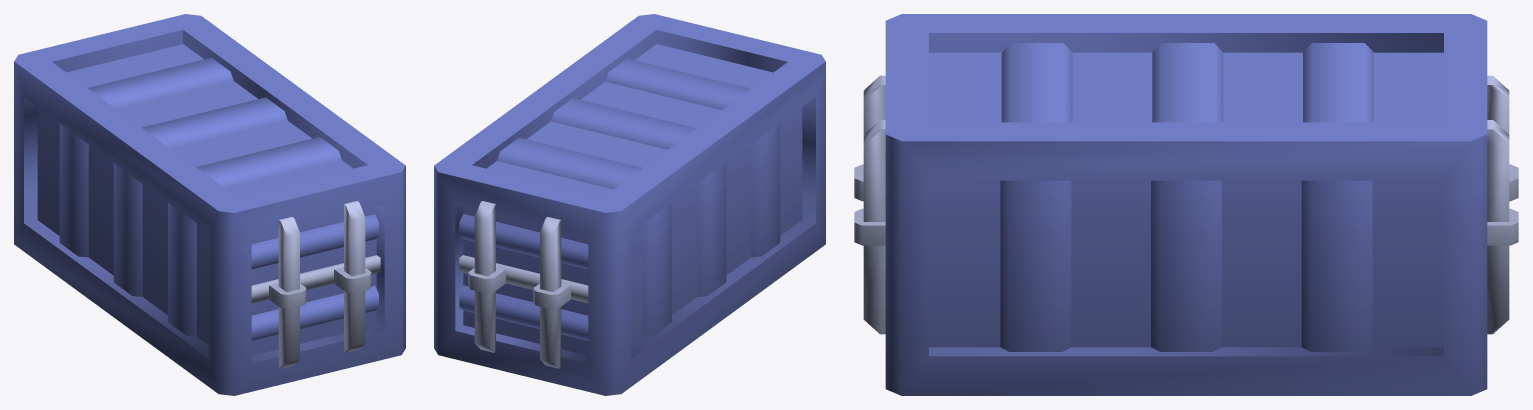
File: k-city-kit-industrial-shipping-container-b.glb
The picture shows the model from 3 angles, left to right: view 1: azimuth 30°, elevation 25°; view 2: azimuth 150°, elevation 25°; view 3: azimuth 270°, elevation 25°; orthographic projection. The views are drawn at different scales.
Parts seen in each view (by area): view 1: shipping-container-b; view 2: shipping-container-b; view 3: shipping-container-b.
Part boxes in pixels (bbox=[...]): shipping-container-b: bbox=[14, 14, 405, 395]; shipping-container-b: bbox=[434, 14, 825, 395]; shipping-container-b: bbox=[854, 14, 1518, 395].
Bounding box in the file's own units: 0.3726 × 0.3481 × 0.8226.
1 material, 1 textured.
